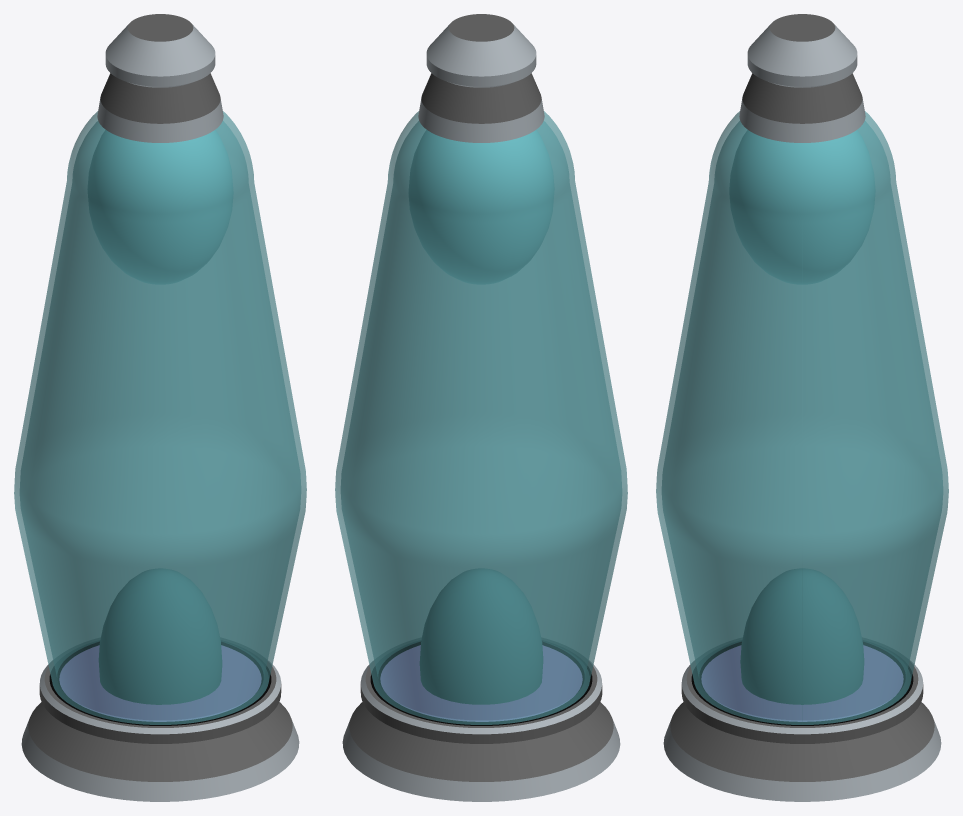
File: Lavalamp2.fbx
3 renders of one model, left to right at view 1: azimuth 30°, elevation 25°; view 2: azimuth 150°, elevation 25°; view 3: azimuth 270°, elevation 25°, orthographic.
Parts seen in each view (by area): view 1: _glass2, __base, lava_top, lava_bottom, __top; view 2: _glass2, __base, lava_top, lava_bottom, __top; view 3: _glass2, __base, lava_top, lava_bottom, __top.
Boxes of the visible parts, x1=… form: _glass2: x1=14, y1=111, x2=306, y2=724; __base: x1=21, y1=641, x2=299, y2=801; lava_top: x1=87, y1=130, x2=233, y2=284; lava_bottom: x1=99, y1=568, x2=221, y2=704; __top: x1=97, y1=14, x2=223, y2=142; _glass2: x1=335, y1=111, x2=627, y2=724; __base: x1=342, y1=641, x2=620, y2=801; lava_top: x1=409, y1=130, x2=554, y2=284; lava_bottom: x1=420, y1=568, x2=542, y2=704; __top: x1=418, y1=14, x2=544, y2=142; _glass2: x1=656, y1=111, x2=948, y2=724; __base: x1=663, y1=641, x2=941, y2=801; lava_top: x1=729, y1=130, x2=875, y2=284; lava_bottom: x1=740, y1=568, x2=863, y2=704; __top: x1=739, y1=14, x2=865, y2=142.
Bounding box in the file's own units: 0.887 × 2.42 × 0.887.
